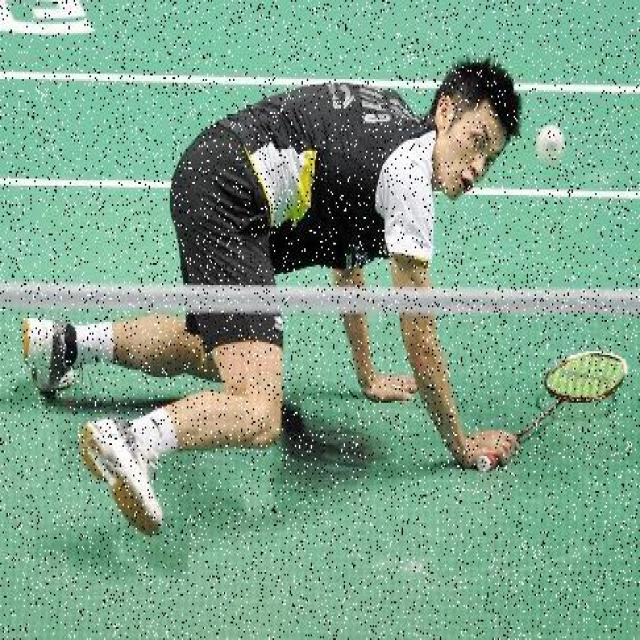fall: (39, 62, 534, 508)
